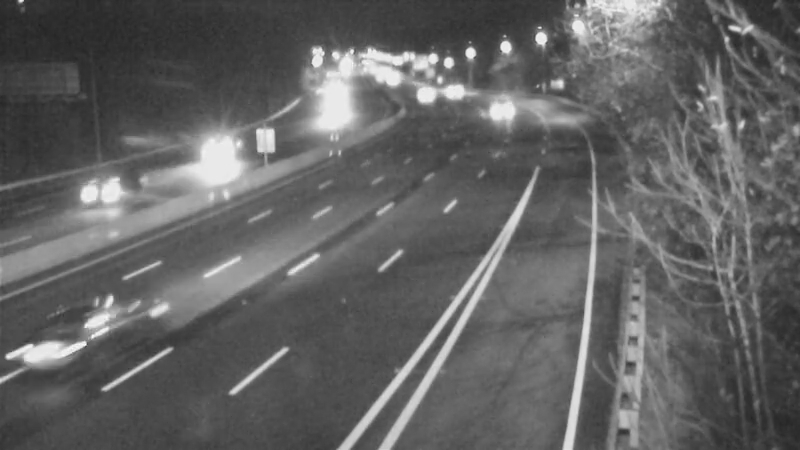vehicle: (44, 283, 154, 393), (61, 152, 141, 232), (178, 111, 258, 191), (394, 66, 444, 116), (429, 65, 479, 115), (470, 84, 520, 134)
